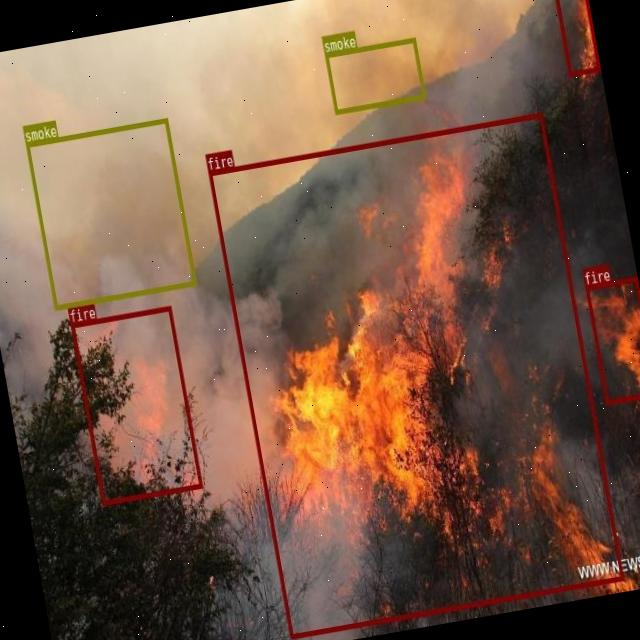fire: (208, 112, 622, 638), (70, 305, 201, 504), (585, 276, 640, 403), (552, 0, 599, 75)
smoke: (26, 116, 196, 308), (324, 36, 426, 114)
